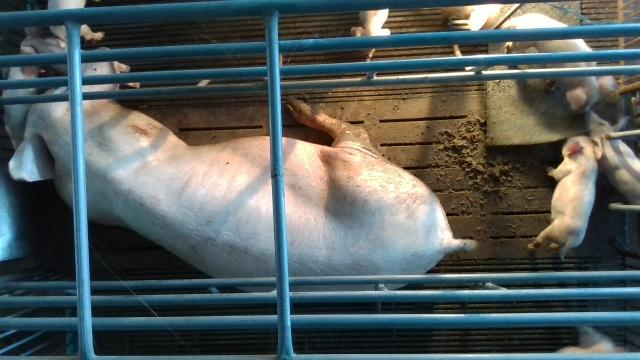piglet: (503, 12, 615, 111), (528, 135, 603, 260), (21, 27, 140, 87), (587, 111, 640, 203), (3, 47, 41, 149), (45, 0, 106, 43), (350, 9, 391, 57)
sow-sit: (9, 47, 476, 291)
